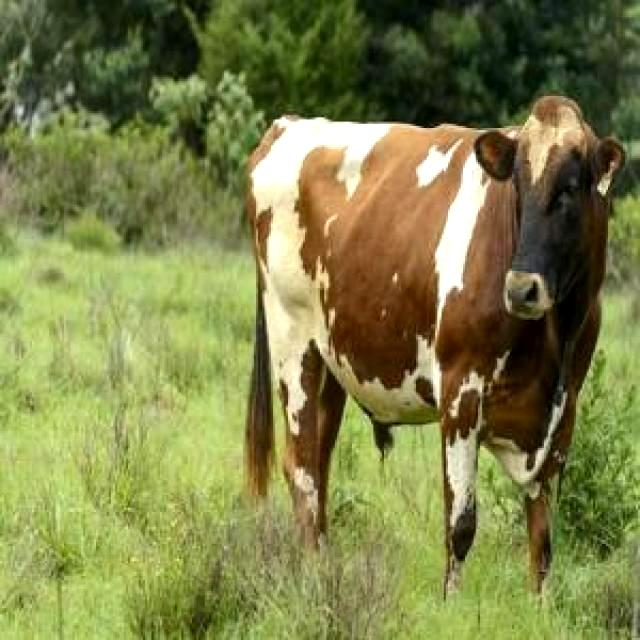COW: (246, 96, 624, 591)
